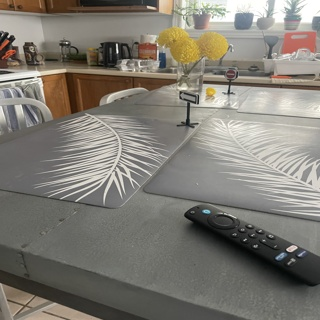sign_noentry: (225, 69, 236, 77)
sign_oneway_left: (177, 91, 197, 102)
